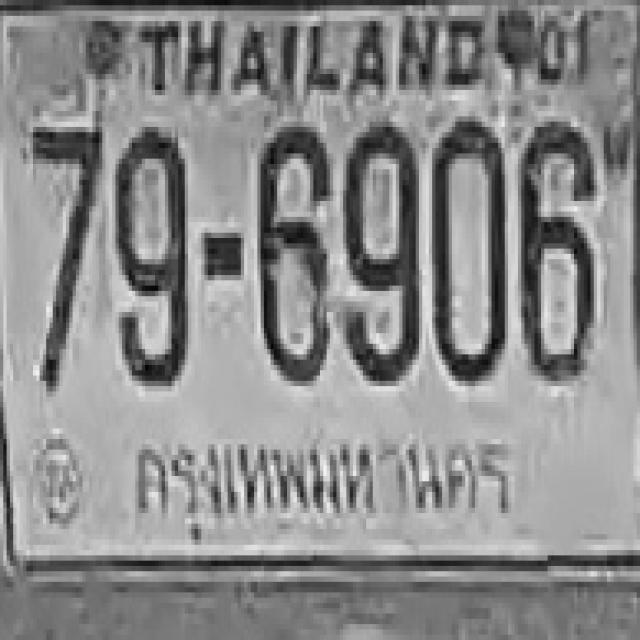0: (429, 111, 505, 381)
6: (520, 117, 592, 376), (257, 122, 327, 380)
7: (30, 119, 102, 389)
9: (342, 116, 418, 381), (112, 122, 188, 380)
BKK: (124, 425, 516, 534)
